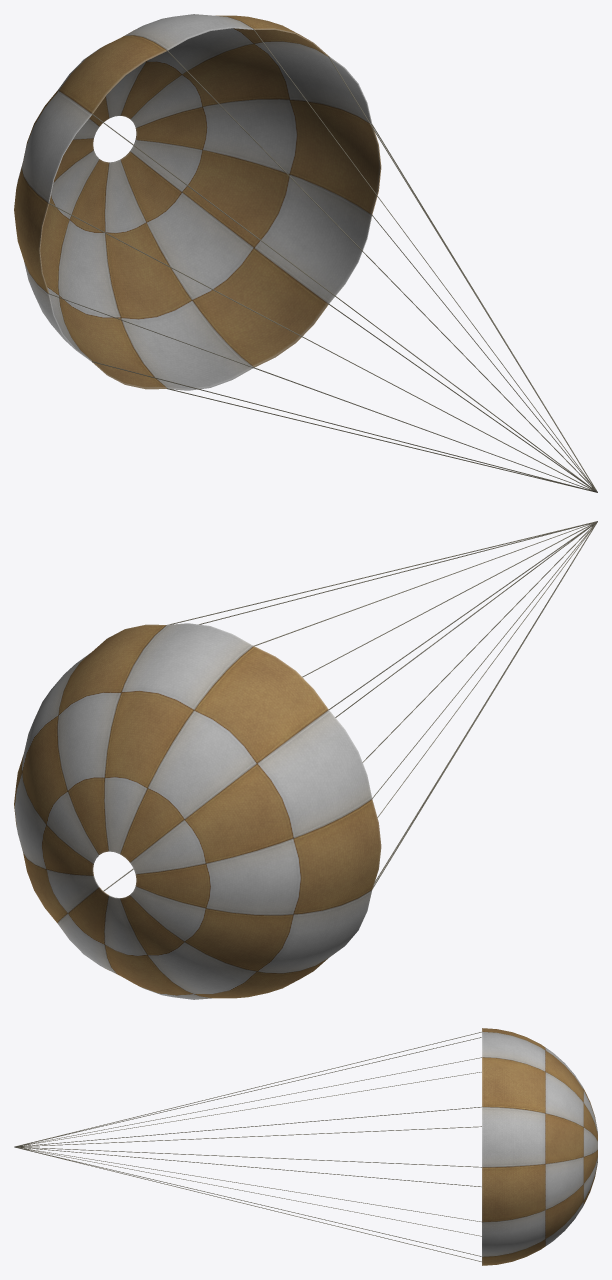
Rendered from 4mv_vl_parachute_s0_1_canopy.obj.
3 views of the same model, one above another, from view 1: azimuth 30°, elevation 25°; view 2: azimuth 150°, elevation 25°; view 3: azimuth 270°, elevation 25° (orthographic). The views are drawn at different scales.
Parts seen in each view (by area): view 1: mesh2; view 2: mesh2; view 3: mesh2.
Part boxes in pixels (x1,y1,x2,y2): mesh2: (14, 14, 597, 492); mesh2: (14, 521, 597, 999); mesh2: (14, 1028, 597, 1265).
Size of the model in its own units: 5.1 by 5.1 by 12.48.
Materials: 1 (1 with a texture image).
